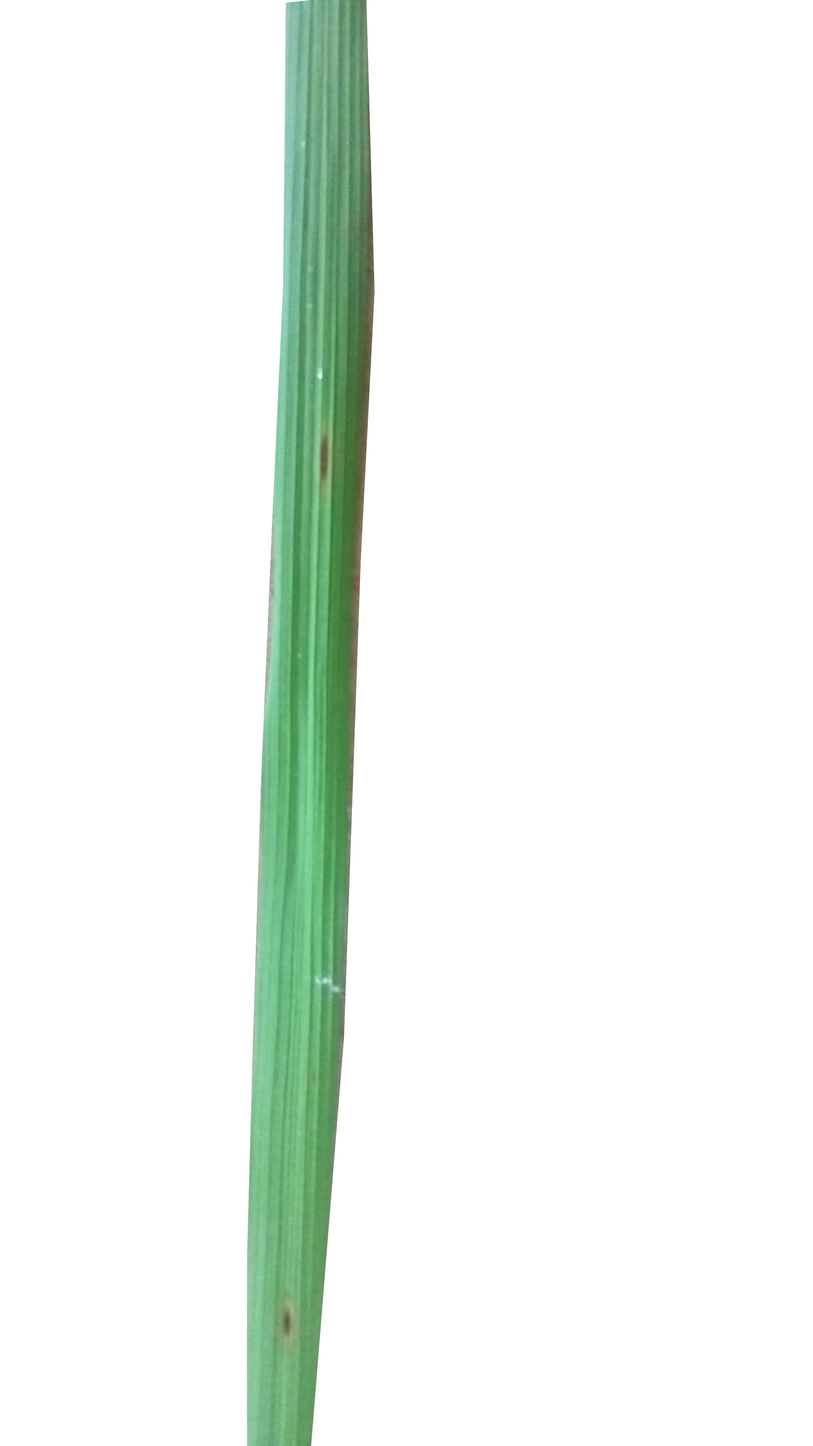Brown spot: (299, 414, 347, 497)
